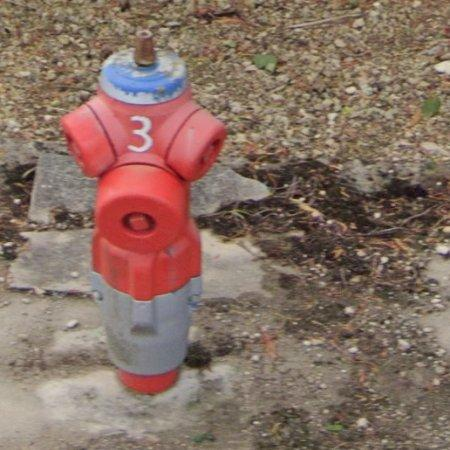a fire hydrant: (60, 31, 227, 395)
